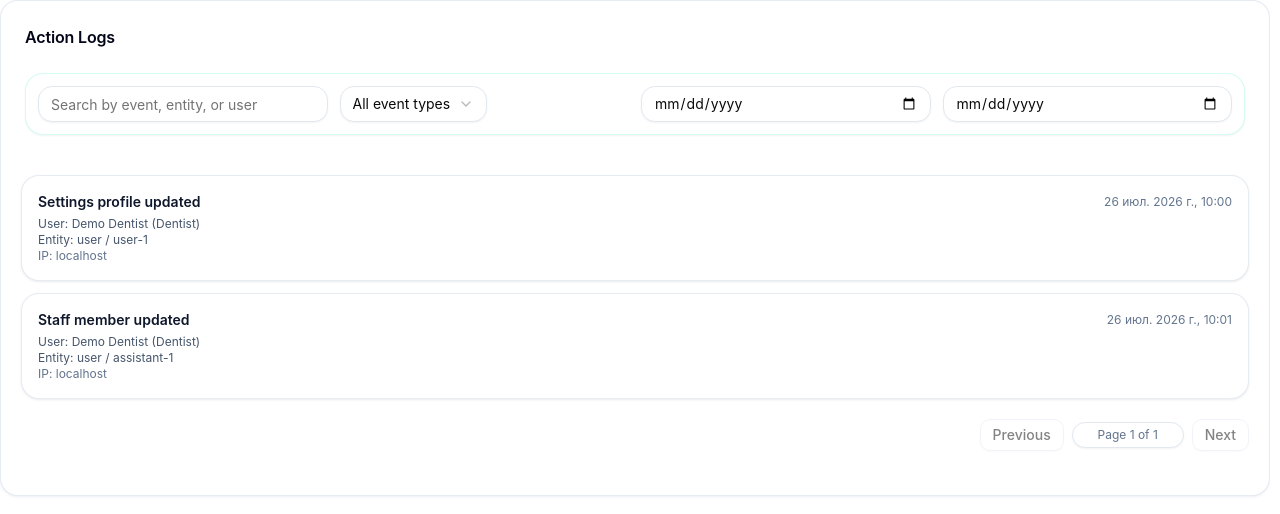
Scenario: AuditLogsTab › shows visible events and builds the filter from backend metadata
This screenshot has width=1280, height=514.
expect the text "Settings profile updated" is shown: met, box top-left (38, 192), bottom-right (200, 212)
expect the text "Staff member updated" is shown: met, box top-left (38, 310), bottom-right (190, 330)
Click the dropdown labelled "All event types" at (413, 104), box top-left (340, 86), bottom-right (487, 122)
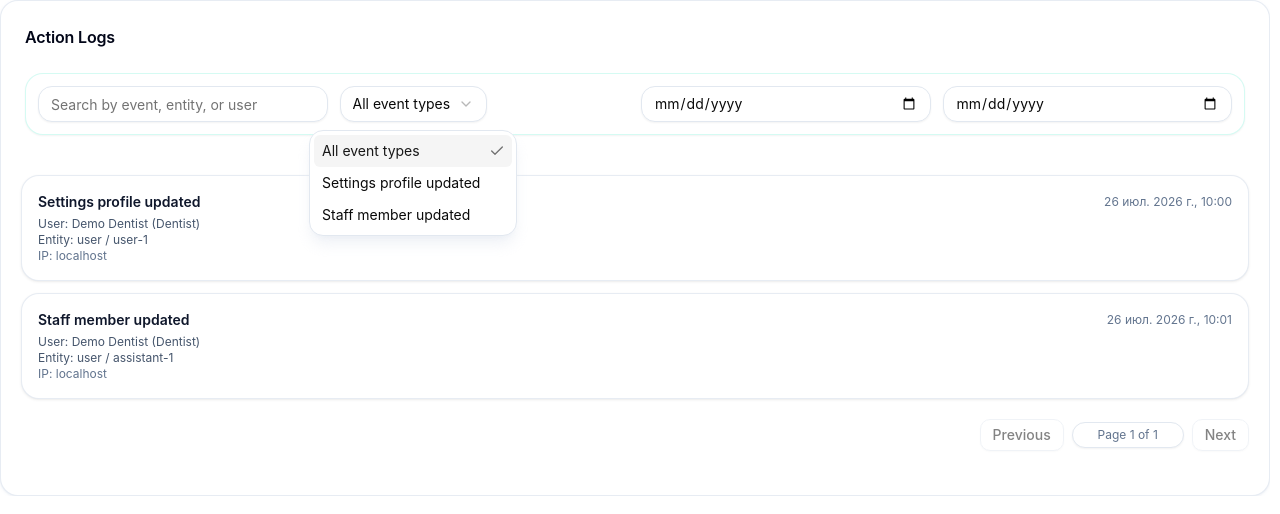
expect the option "Settings profile updated" is shown: met, box top-left (322, 174), bottom-right (480, 191)
